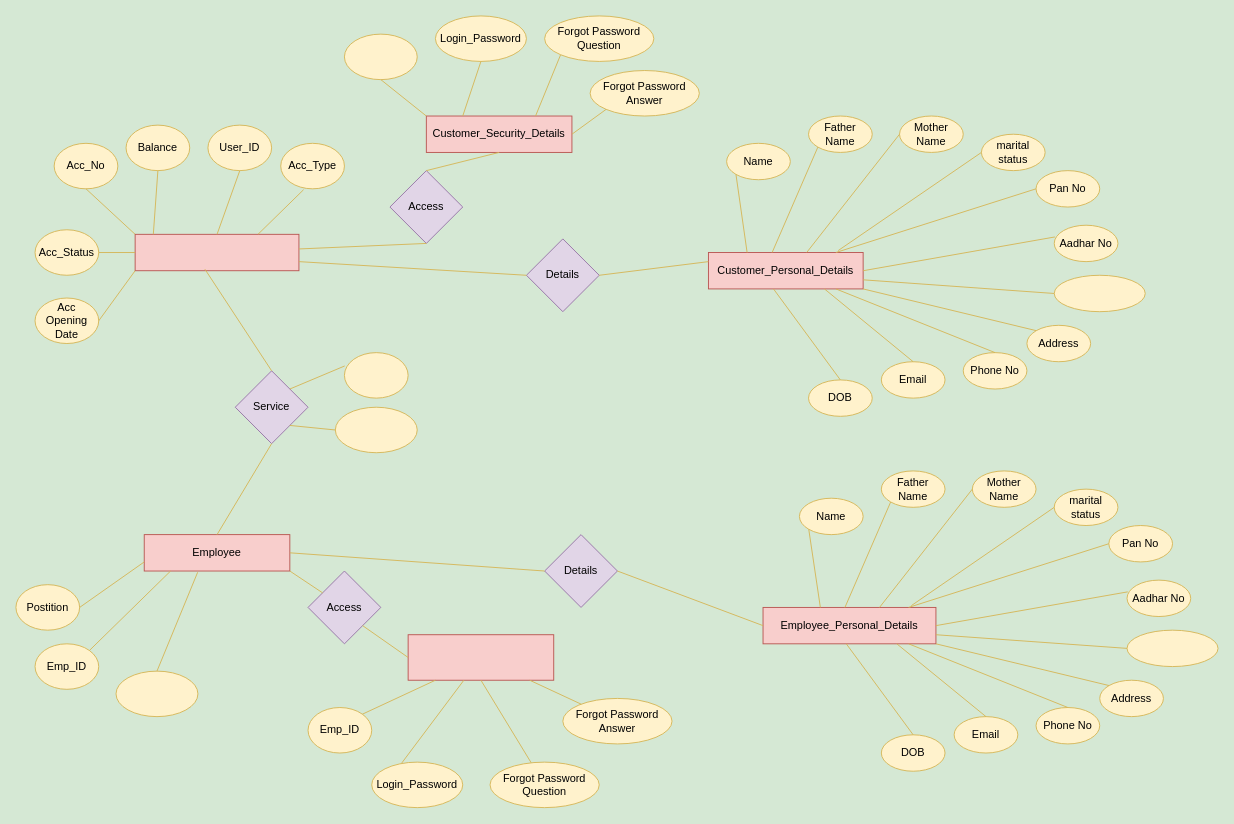
This 1234x824 diagram has some shape labels left out. Each missing label, with the centre of its shape:
Account Maintainence: the point at 375,429
Account Opening: the point at 376,375
Customer_Bank: the point at 216,252
Customer_ID: the point at 380,56
Education: the point at 1172,648
Employee_Security_Details: the point at 480,657
Joining Date: the point at 156,693
occupation: the point at 1099,293
